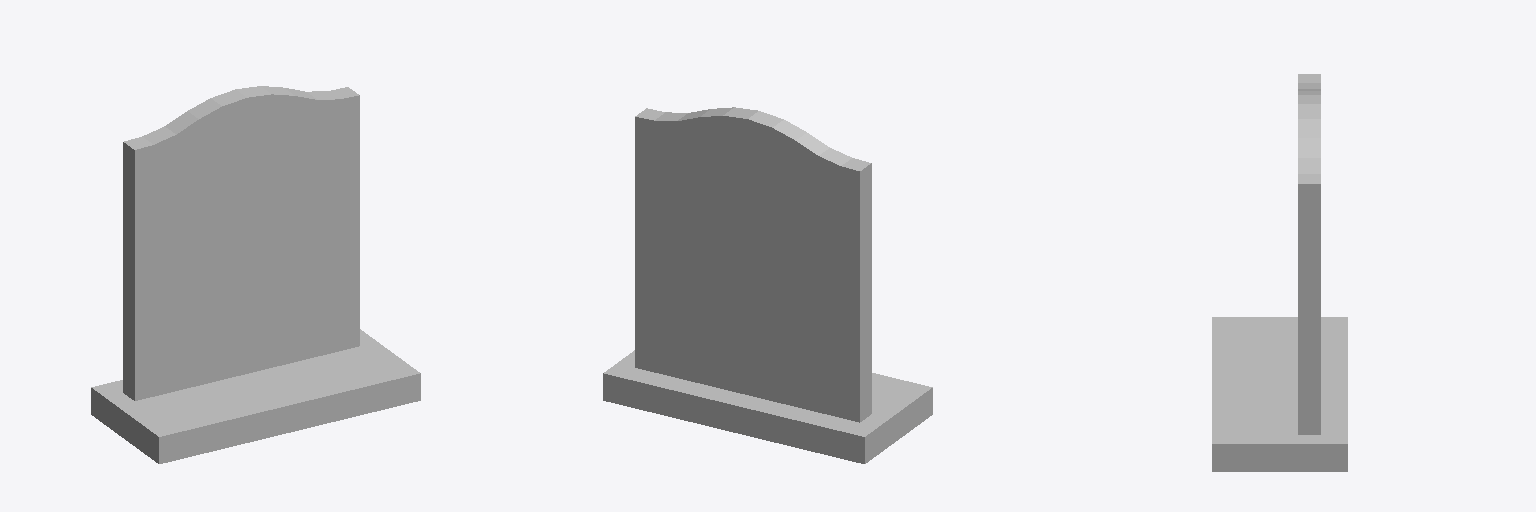
Rendered from headstone_01.obj.
The picture shows the model from 3 angles: view 1: azimuth 30°, elevation 25°; view 2: azimuth 150°, elevation 25°; view 3: azimuth 270°, elevation 25°; orthographic projection.
Visible parts, largest first — view 1: headstone_01; view 2: headstone_01; view 3: headstone_01.
Part boxes in pixels (x1,y1,x2,y2): headstone_01: (91,86,420,463); headstone_01: (603,107,932,463); headstone_01: (1212,74,1347,471).
Size of the model in its own units: 1 by 1.11 by 0.45.